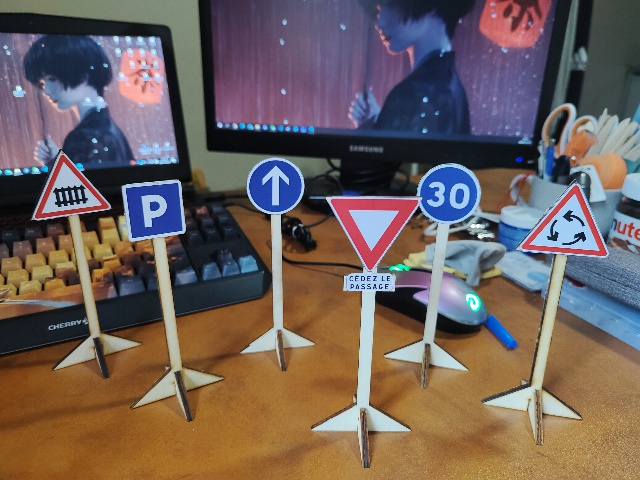P: (121, 178, 189, 241)
cycle: (517, 180, 611, 258)
second: (327, 194, 419, 294)
straight: (248, 157, 306, 215)
thirty: (419, 164, 481, 223)
train: (31, 153, 113, 215)
